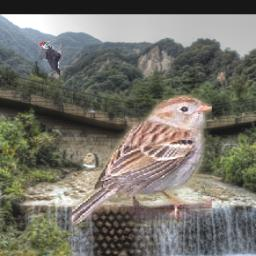Sparrow: (73, 95, 213, 226)
Woodpecker: (38, 40, 64, 77)
